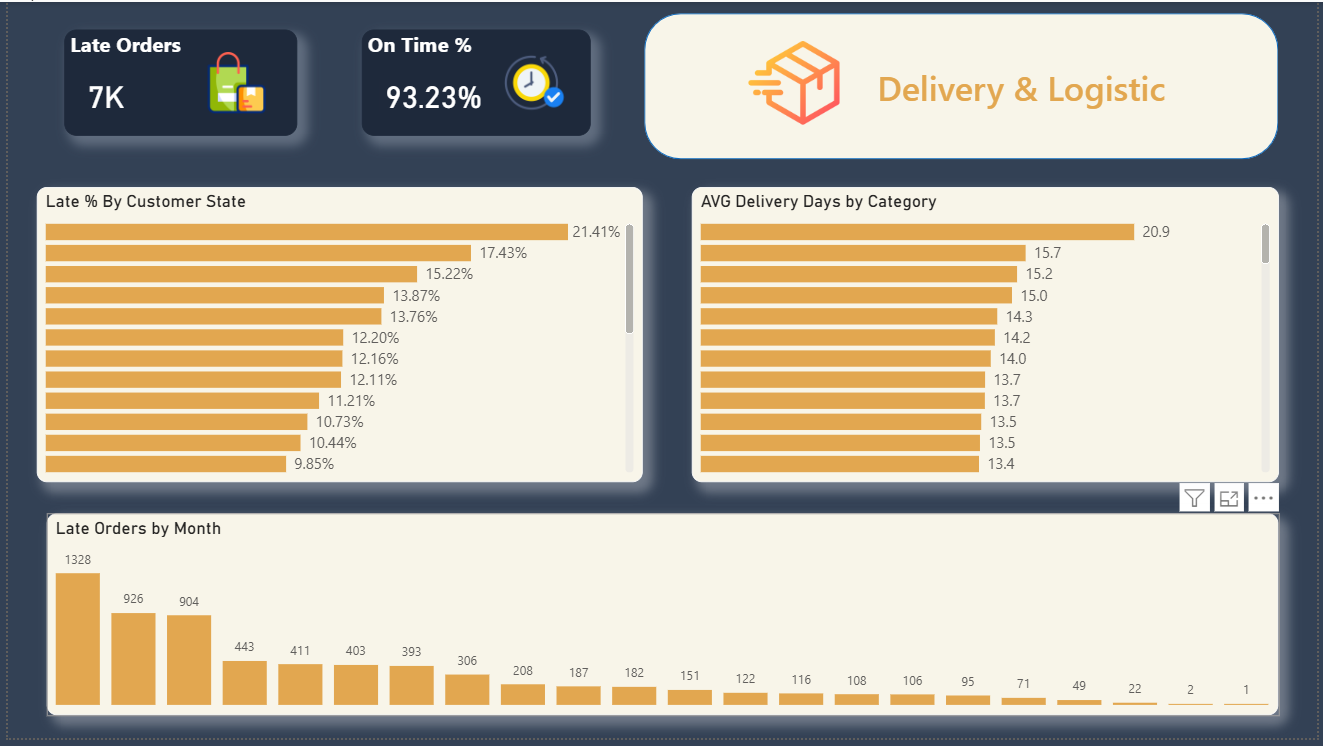

The dashboard page shown, as its layout file describes it:
{"tool":"powerbi","page":{"name":"Delivery & Logistics","canvas":[1280,720],"ordinal":4},"visuals":[{"type":"clusteredColumnChart","title":"Late Orders by Month","fields":{"Category":["DimDate.Year-Month"],"Y":["public bi_fact_sales.Late Orders"]},"box":[38.4,500.6,1204.6,197.7],"z":0},{"type":"clusteredBarChart","title":"AVG Delivery Days by Category","fields":{"Category":["public bi_fact_sales.category"],"Y":["public bi_fact_sales.Avg Delivery Days"]},"box":[668.4,180.6,574.6,288.7],"z":1000},{"type":"clusteredBarChart","title":"Late % By Customer State","fields":{"Category":["public bi_fact_sales.customer_state"],"Y":["public bi_fact_sales.Late %"]},"box":[28.4,180.6,593.1,288.7],"z":2000},{"type":"cardVisual","title":"Late Orders","fields":{"Data":["public bi_fact_sales.Late Orders"]},"box":[54.8,27.4,228,103.9],"z":3000},{"type":"cardVisual","title":"On Time %","fields":{"Data":["public bi_fact_sales.On-time %"]},"box":[346.3,27.4,223.6,103.9],"z":4000},{"type":"shape","box":[621.8,11.5,620.4,142.8],"z":5000},{"type":"image","box":[691.1,33.2,155.8,92.3],"z":6000},{"type":"image","box":[470.8,48.9,88,59.9],"z":6001},{"type":"image","box":[179.8,48.9,88,59.9],"z":6002}]}

Visuals, with their boxes in screenshot pixels (x1, y1, x2, y2), scaled from the page's 1280x720 canvas onto the 1323x746 screenshot:
"Late Orders by Month" clusteredColumnChart: [x1=40, y1=519, x2=1285, y2=724]
"AVG Delivery Days by Category" clusteredBarChart: [x1=691, y1=187, x2=1285, y2=486]
"Late % By Customer State" clusteredBarChart: [x1=29, y1=187, x2=642, y2=486]
"Late Orders" cardVisual: [x1=57, y1=28, x2=292, y2=136]
"On Time %" cardVisual: [x1=358, y1=28, x2=589, y2=136]
shape: [x1=643, y1=12, x2=1284, y2=160]
image: [x1=714, y1=34, x2=875, y2=130]
image: [x1=487, y1=51, x2=578, y2=113]
image: [x1=186, y1=51, x2=277, y2=113]
